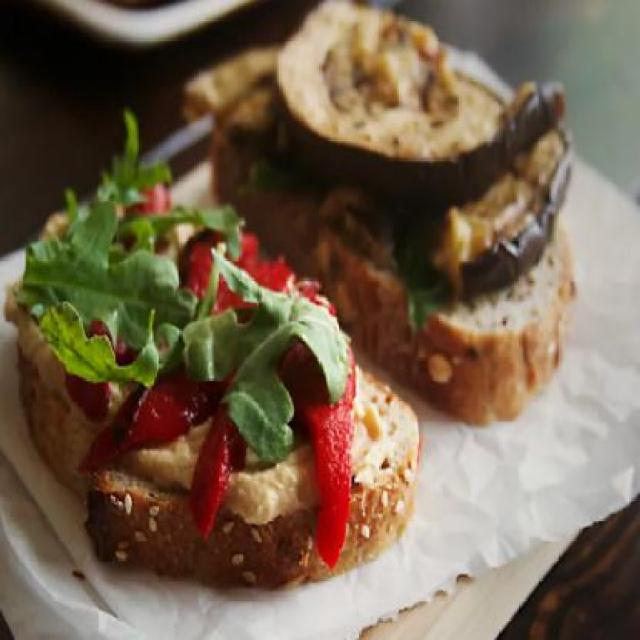beet salad: (27, 169, 358, 543)
eggplant: (222, 1, 578, 301)
hummus: (117, 376, 394, 526)
